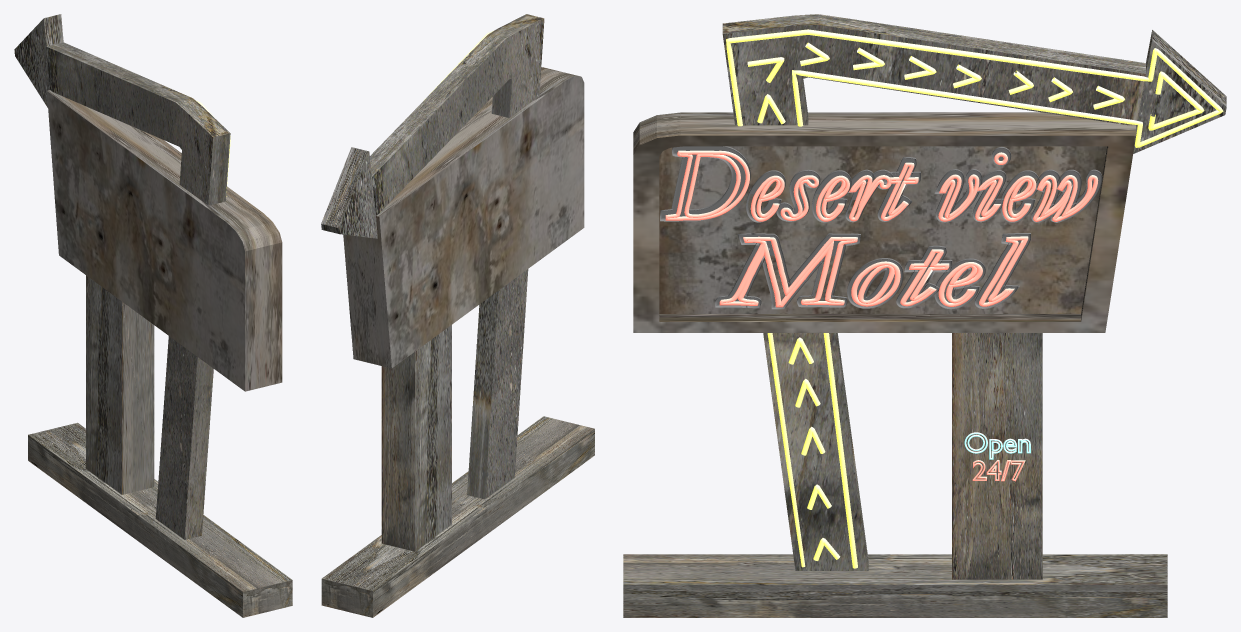
File: sign.glb
3 views of the same model, side by side, from view 1: azimuth 30°, elevation 25°; view 2: azimuth 150°, elevation 25°; view 3: azimuth 270°, elevation 25° (orthographic). The views are drawn at different scales.
Visible parts, largest first — view 1: sign_0, arrow_1, stand_3, Pillar_2; view 2: sign_0, arrow_1, stand_3, Pillar_2; view 3: sign_0, arrow_1, stand_3, Pillar_2, Desert view.002_11, ArrowNeon.001_15, Desert view.003_13, Motel.002_12, Motel.003_14, arrowdetailneon.001_16, open.001_17.
Part boxes in pixels (left/top/right/bottom): sign_0: left=47, top=90, right=282, bottom=391; arrow_1: left=14, top=14, right=230, bottom=539; stand_3: left=28, top=422, right=292, bottom=617; Pillar_2: left=86, top=275, right=154, bottom=494; sign_0: left=343, top=67, right=584, bottom=368; arrow_1: left=321, top=14, right=544, bottom=499; stand_3: left=321, top=416, right=594, bottom=617; Pillar_2: left=381, top=325, right=451, bottom=551; sign_0: left=633, top=112, right=1135, bottom=332; arrow_1: left=722, top=14, right=1226, bottom=570; stand_3: left=623, top=554, right=1167, bottom=617; Pillar_2: left=952, top=333, right=1042, bottom=579; Desert view.002_11: left=665, top=150, right=1098, bottom=221; ArrowNeon.001_15: left=726, top=29, right=1223, bottom=568; Desert view.003_13: left=660, top=146, right=1102, bottom=222; Motel.002_12: left=719, top=236, right=1028, bottom=307; Motel.003_14: left=715, top=233, right=1030, bottom=309; arrowdetailneon.001_16: left=747, top=42, right=1204, bottom=560; open.001_17: left=964, top=432, right=1030, bottom=481.
Bounding box in the file's own units: 0.5081 × 4.47 × 4.22.
Materials: 8 (2 with a texture image).
